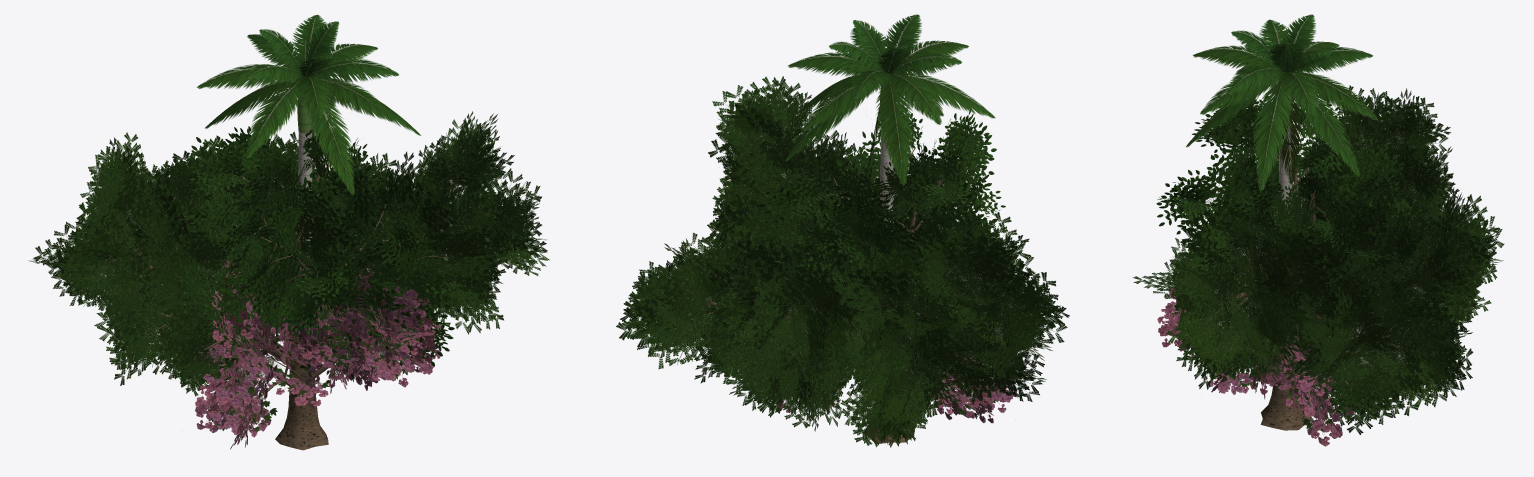
Rendered from trees.glb.
The picture shows the model from 3 angles, left to right: view 1: azimuth 30°, elevation 25°; view 2: azimuth 150°, elevation 25°; view 3: azimuth 270°, elevation 25°; orthographic projection. The views are drawn at different scales.
Parts seen in each view (by area): view 1: rain_leaf, round_leaf, bloom_leaf, palm_leaf, rain_bark, palm_bark, bloom_bark, round_bark; view 2: rain_leaf, round_leaf, palm_leaf, bloom_leaf, palm_bark, rain_bark; view 3: rain_leaf, round_leaf, palm_leaf, bloom_leaf, rain_bark, palm_bark.
Boxes of the visible parts, bbox=[...] form: rain_leaf: bbox=[28, 111, 549, 396]; round_leaf: bbox=[179, 120, 454, 366]; bloom_leaf: bbox=[195, 259, 441, 449]; palm_leaf: bbox=[196, 14, 420, 195]; rain_bark: bbox=[113, 174, 464, 450]; palm_bark: bbox=[297, 76, 312, 324]; bloom_bark: bbox=[222, 309, 408, 420]; round_bark: bbox=[202, 158, 417, 372]; rain_leaf: bbox=[616, 76, 1069, 447]; round_leaf: bbox=[759, 107, 1005, 414]; palm_leaf: bbox=[784, 14, 995, 185]; bloom_leaf: bbox=[777, 347, 1032, 423]; palm_bark: bbox=[880, 73, 894, 271]; rain_bark: bbox=[705, 133, 999, 443]; rain_leaf: bbox=[1132, 85, 1504, 434]; round_leaf: bbox=[1156, 93, 1427, 383]; palm_leaf: bbox=[1186, 14, 1377, 192]; bloom_leaf: bbox=[1157, 277, 1354, 446]; rain_bark: bbox=[1215, 139, 1440, 430]; palm_bark: bbox=[1277, 71, 1292, 219].
Bounding box in the file's own units: 20 × 17.32 × 16.03.
Materials: 2 (2 with a texture image).
